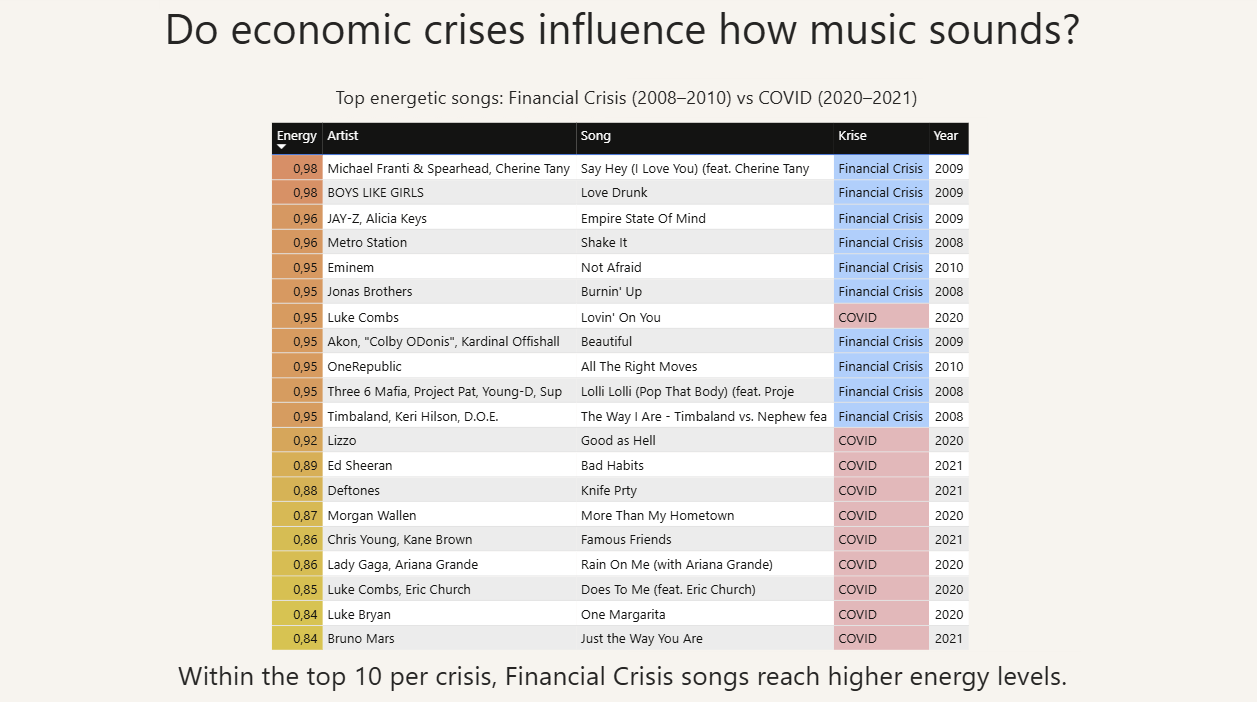

What the dashboard file says about the page in this screenshot:
{"tool":"powerbi","page":{"name":"Energy_TopSongs_Comparison","canvas":[1280,720],"ordinal":3},"visuals":[{"type":"tableEx","fields":{"Values":["songs_vergleich.Energy","songs_vergleich.Artist","songs_vergleich.Song","songs_vergleich.Krise","songs_vergleich.year"]},"box":[275.8,125.7,728.3,552.7],"z":1000},{"type":"textbox","box":[168.3,0,943.3,70],"z":2000},{"type":"textbox","box":[340.7,86.3,598.1,39.4],"z":3000},{"type":"textbox","box":[181.7,665,916.7,55],"z":4000}]}

Visuals, with their boxes in screenshot pixels (x1, y1, x2, y2), scaled from the page's 1280x720 canvas onto the 1257x702 screenshot:
tableEx - songs_vergleich.Energy x songs_vergleich.Artist: <region>271, 123, 986, 661</region>
textbox: <region>165, 0, 1092, 68</region>
textbox: <region>335, 84, 922, 123</region>
textbox: <region>178, 648, 1079, 701</region>
